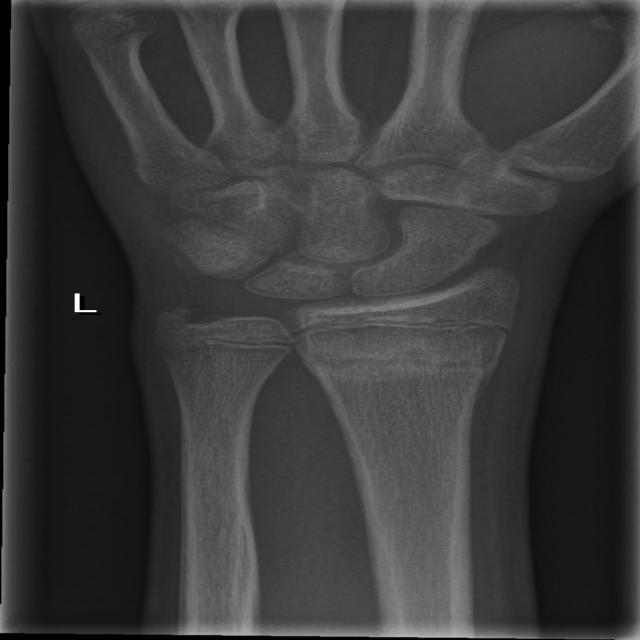fracture: (263, 297, 553, 348), (296, 332, 517, 388), (143, 320, 309, 364)
